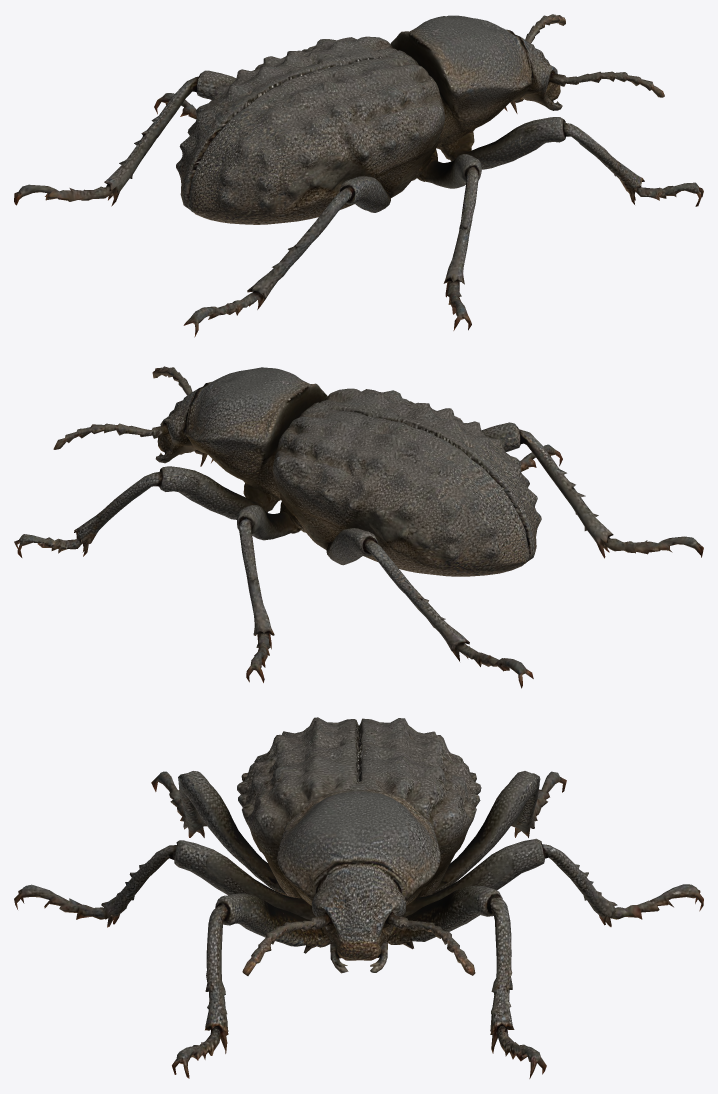
File: beetle.glb
The picture shows the model from 3 angles, top to bottom: view 1: azimuth 30°, elevation 25°; view 2: azimuth 150°, elevation 25°; view 3: azimuth 270°, elevation 25°; orthographic projection. The views are drawn at different scales.
Visible parts, largest first — view 1: tripo_node_def54e58-54de-4bcd-9742-61e7e22d68b7; view 2: tripo_node_def54e58-54de-4bcd-9742-61e7e22d68b7; view 3: tripo_node_def54e58-54de-4bcd-9742-61e7e22d68b7.
Boxes of the visible parts, left/top/right/bottom form: tripo_node_def54e58-54de-4bcd-9742-61e7e22d68b7: left=14, top=14, right=703, bottom=337; tripo_node_def54e58-54de-4bcd-9742-61e7e22d68b7: left=14, top=366, right=703, bottom=688; tripo_node_def54e58-54de-4bcd-9742-61e7e22d68b7: left=14, top=717, right=703, bottom=1078.
Size of the model in its own units: 1 by 0.2998 by 0.9979.
Materials: 1 (1 with a texture image).
